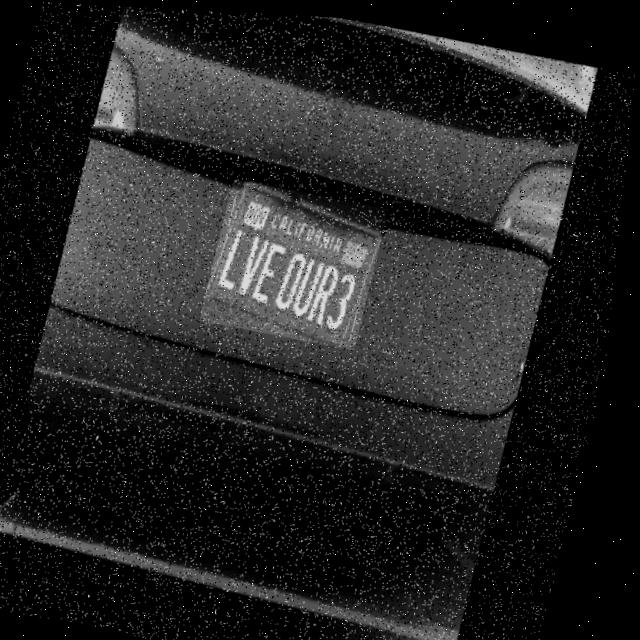LicensePlate: (204, 175, 394, 347)
